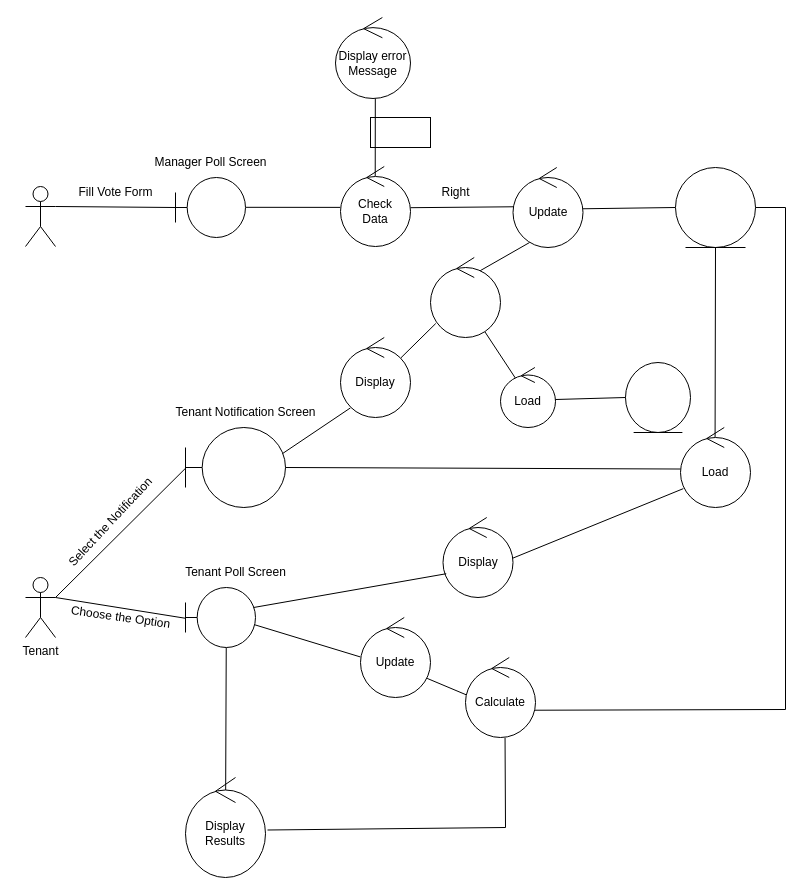
Some shapes in this 804 by 895 pixel diagram are drawn without their labels. Each missing label, with the box of its shape:
Create Notification: (430, 256, 500, 338)
Manager: (24, 186, 56, 246)
Notification List: (624, 362, 690, 432)
Poll list: (674, 166, 756, 248)
Wrong: (370, 116, 430, 148)
